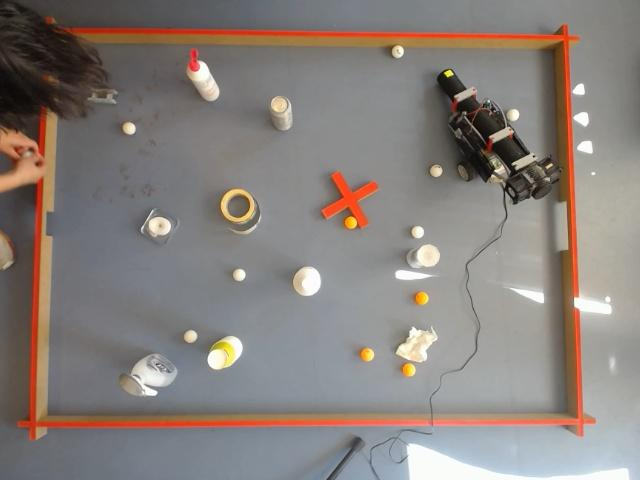orange: (400, 362, 416, 378), (359, 347, 375, 362), (414, 291, 429, 306), (344, 214, 356, 230)
robot: (437, 69, 563, 205)
robot-front: (441, 69, 455, 80)
white: (120, 120, 139, 139), (230, 268, 248, 284), (182, 328, 198, 345), (390, 44, 406, 60), (410, 224, 425, 240), (507, 109, 519, 121), (430, 165, 442, 177)
